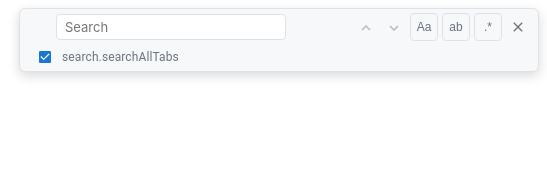
Test: SearchReplacePanel › T-SR-07: cross-tab search finds matches across all tabs
Type "hello" into the field with placeholder "Search". click: (171, 27)
box: [56,14,286,40]
Wait 200 ms
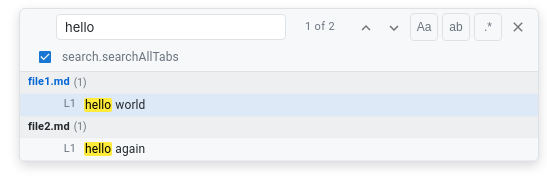
Check: the text "1 of 2" is shown, box [305,20,335,33]
Check: the text "file1.md" is shown, box [28,74,70,90]
Check: the text "file2.md" is shown, box [28,118,70,135]
